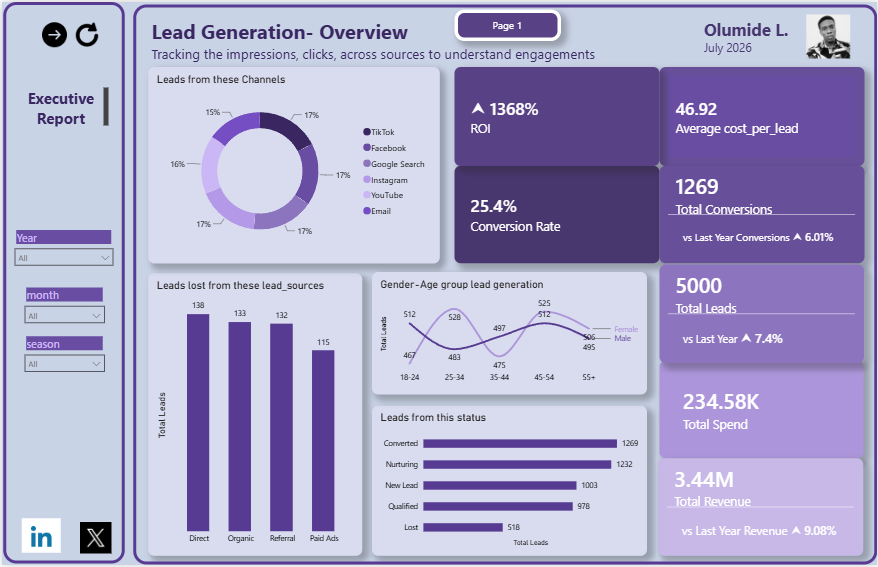

What the dashboard file says about the page in this screenshot:
{"tool":"powerbi","page":{"name":"Page 1","canvas":[1400,900],"ordinal":0},"visuals":[{"type":"cardVisual","fields":{"Data":["my_output_file.Average cost_per_lead"]},"box":[1052,104,328,158],"z":0},{"type":"cardVisual","fields":{"Data":["my_output_file.Total Spend"]},"box":[1052,574,326,156],"z":1000},{"type":"cardVisual","fields":{"Data":["my_output_file.Conversion Rate"]},"box":[724,262,328,156],"z":2000},{"type":"cardVisual","fields":{"Data":["my_output_file.Profit %"]},"box":[724,104,328,158],"z":3000},{"type":"cardVisual","fields":{"Data":["my_output_file.Total Conversions"]},"box":[1052,262,328,156],"z":4000},{"type":"cardVisual","fields":{"Data":["my_output_file.Total Leads"]},"box":[1052.5,420,327.5,157.5],"z":5000},{"type":"cardVisual","fields":{"Data":["my_output_file.Total Revenue"]},"box":[1050,730,328,156],"z":6000},{"type":"columnChart","title":"Leads lost from these lead_sources","fields":{"Category":["my_output_file.lead_source"],"Y":["my_output_file.Total Leads"]},"box":[234,434,342,452],"z":7000},{"type":"donutChart","title":"Leads from these Channels","fields":{"Category":["my_output_file.channel"],"Y":["my_output_file.Total Leads"]},"box":[234,104,466,314],"z":8000},{"type":"clusteredBarChart","title":"Leads from this status","fields":{"Category":["my_output_file.status"],"Y":["my_output_file.Total Leads"]},"box":[592,646,440,240],"z":9000},{"type":"lineChart","title":"Gender-Age group lead generation","fields":{"Category":["my_output_file.age_group"],"Y":["my_output_file.Total Leads"],"Series":["my_output_file.gender"]},"box":[592,432,440,196],"z":10000},{"type":"shape","box":[2,0,194,898],"z":11000},{"type":"slicer","fields":{"Values":["my_output_file.year"]},"box":[10,360,178,100],"z":12000},{"type":"slicer","fields":{"Values":["my_output_file.month"]},"box":[26,452,148,78],"z":13000},{"type":"slicer","fields":{"Values":["my_output_file.season"]},"box":[26,530,148,64],"z":14000},{"type":"textbox","box":[20,132.5,155,72.5],"z":15000},{"type":"shape","box":[210,4,1190,896],"z":16000},{"type":"textbox","box":[234,20,910,84],"z":17000},{"type":"image","box":[1286,20,72,70],"z":18000},{"type":"image","box":[124,832,52,50],"z":19000},{"type":"image","box":[26,826,74,55],"z":20000},{"type":"textbox","box":[1118,20,166,70],"z":21000},{"type":"pageNavigator","box":[724,12,170,50],"z":22000},{"type":"image","box":[98,26,76,54],"z":23000},{"type":"image","box":[64,18,40,68],"z":24000}]}

Visuals, with their boxes in screenshot pixels (x1, y1, x2, y2), scaled from the page's 1400x900 canvas onto the 878x567 screenshot:
cardVisual - my_output_file.Average cost_per_lead: 660:66:865:165
cardVisual - my_output_file.Total Spend: 660:362:864:460
cardVisual - my_output_file.Conversion Rate: 454:165:660:263
cardVisual - my_output_file.Profit %: 454:66:660:165
cardVisual - my_output_file.Total Conversions: 660:165:865:263
cardVisual - my_output_file.Total Leads: 660:265:865:364
cardVisual - my_output_file.Total Revenue: 658:460:864:558
"Leads lost from these lead_sources" columnChart: 147:273:361:558
"Leads from these Channels" donutChart: 147:66:439:263
"Leads from this status" clusteredBarChart: 371:407:647:558
"Gender-Age group lead generation" lineChart: 371:272:647:396
shape: 1:0:123:566
slicer - my_output_file.year: 6:227:118:290
slicer - my_output_file.month: 16:285:109:334
slicer - my_output_file.season: 16:334:109:374
textbox: 13:83:110:129
shape: 132:3:877:566
textbox: 147:13:717:66
image: 807:13:852:57
image: 78:524:110:556
image: 16:520:63:555
textbox: 701:13:805:57
pageNavigator: 454:8:561:39
image: 61:16:109:50
image: 40:11:65:54
